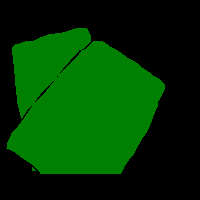mutande: (6, 40, 165, 174), (12, 27, 91, 119), (31, 165, 36, 171)
